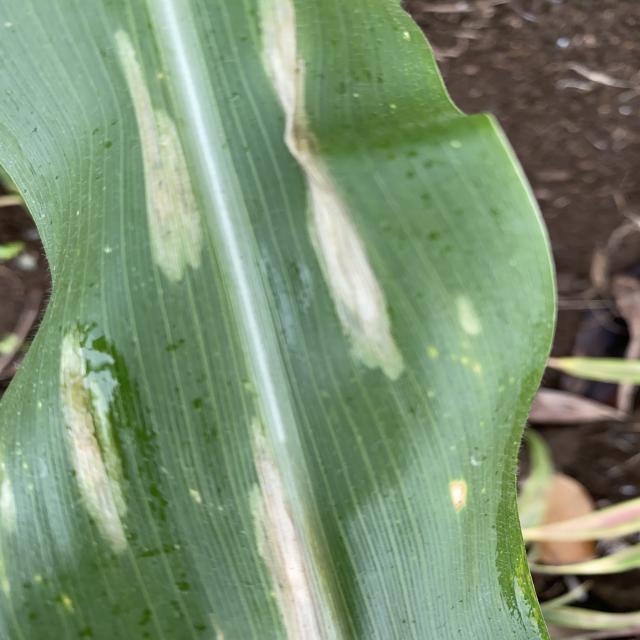Corn_Leaf_Blight: (0, 7, 566, 640)
